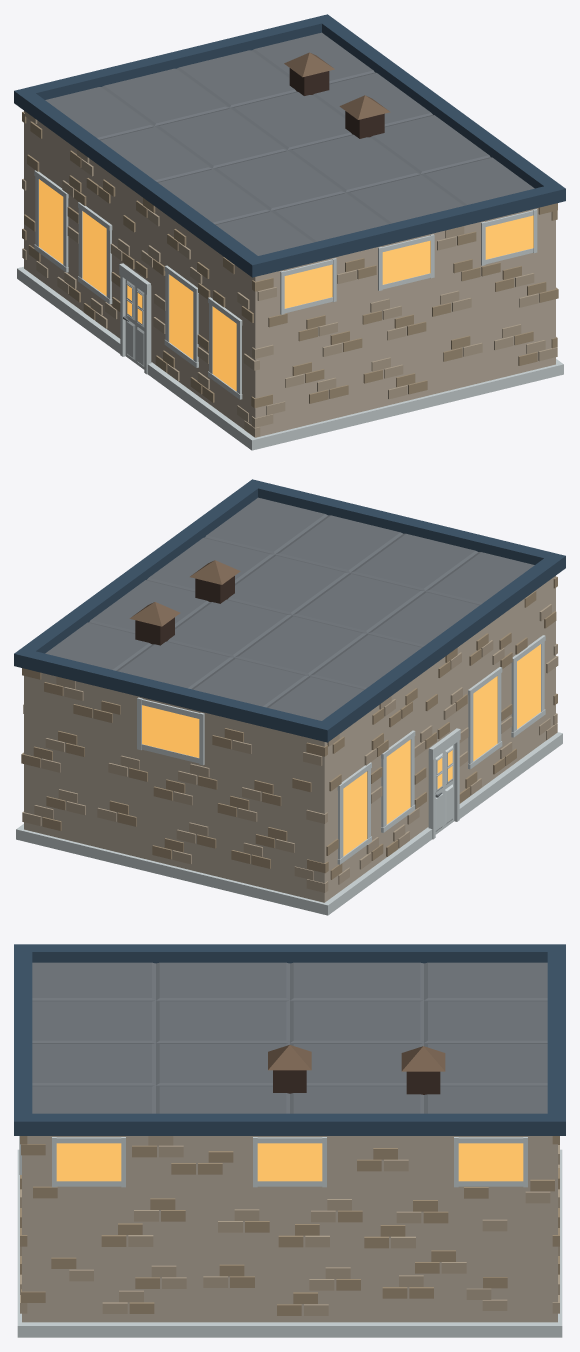
Rendered from SM_Gas_Station_House.fbx.
3 views of the same model, one above another, from view 1: azimuth 30°, elevation 25°; view 2: azimuth 150°, elevation 25°; view 3: azimuth 270°, elevation 25° (orthographic). The views are drawn at different scales.
Parts seen in each view (by area): view 1: SM_Gas_Station_House_LOD0; view 2: SM_Gas_Station_House_LOD0; view 3: SM_Gas_Station_House_LOD0.
Part boxes in pixels (left/top/right/bottom): SM_Gas_Station_House_LOD0: left=14, top=14, right=565, bottom=450; SM_Gas_Station_House_LOD0: left=14, top=479, right=565, bottom=915; SM_Gas_Station_House_LOD0: left=14, top=944, right=565, bottom=1337.
Size of the model in its own units: 878 by 1153 by 569.
1 material, 1 textured.
